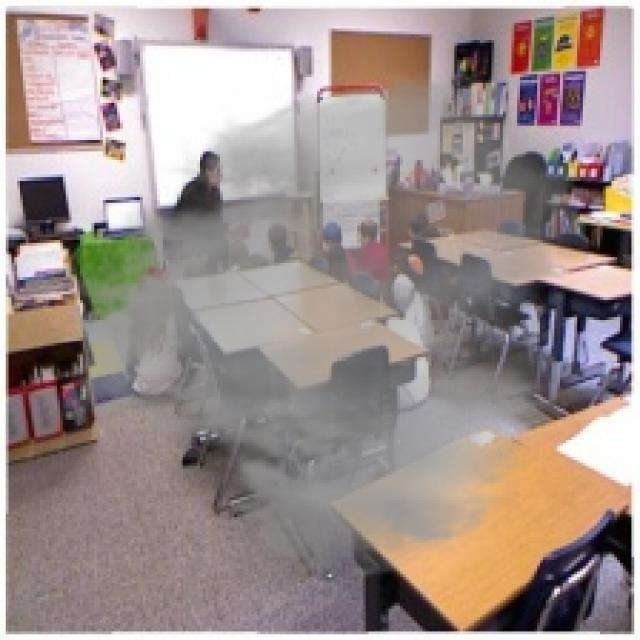Smoke: (49, 66, 588, 583)
